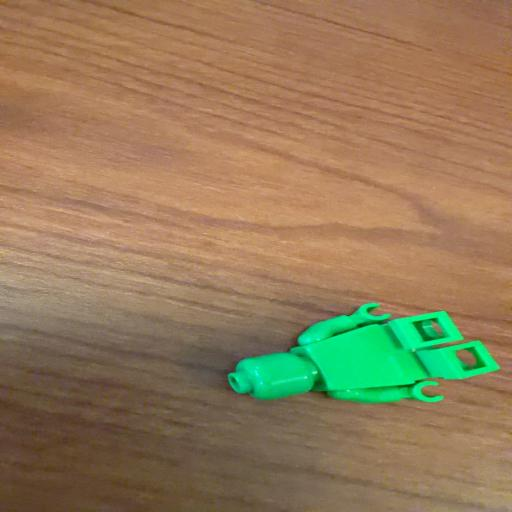UnoQ-minifig-detector: (229, 303, 497, 402)
